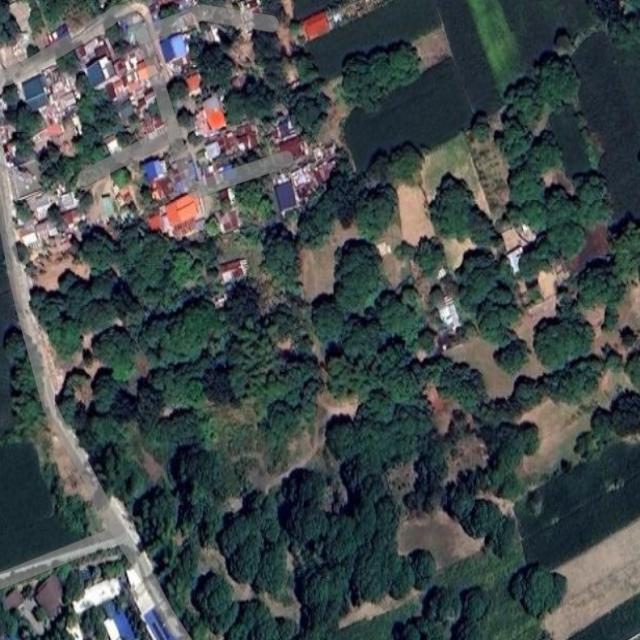Tree: (143, 295, 225, 363), (356, 404, 431, 476), (121, 226, 179, 308), (484, 421, 543, 501), (320, 496, 386, 563), (297, 567, 349, 639), (534, 314, 596, 373), (352, 550, 412, 608), (286, 469, 331, 546), (337, 238, 381, 314), (512, 561, 568, 620), (350, 181, 400, 245), (429, 176, 472, 244), (149, 359, 204, 411), (260, 356, 322, 402), (574, 258, 628, 309), (538, 52, 584, 111), (341, 49, 382, 114), (404, 456, 448, 516), (228, 321, 277, 374), (373, 288, 420, 342), (138, 489, 184, 544), (325, 353, 376, 402), (217, 506, 265, 557), (191, 37, 236, 90), (544, 370, 602, 411), (93, 327, 137, 381), (292, 199, 340, 248), (182, 486, 222, 544), (439, 361, 484, 412), (228, 595, 279, 640), (92, 441, 129, 501), (262, 226, 298, 286), (374, 369, 423, 409), (326, 412, 362, 466), (250, 486, 282, 546), (195, 569, 234, 618), (388, 147, 432, 190), (542, 218, 586, 261), (503, 74, 543, 121), (158, 408, 202, 450), (516, 241, 556, 287), (526, 132, 564, 180), (256, 540, 288, 597), (311, 296, 347, 346), (200, 366, 240, 411), (612, 215, 640, 279), (230, 533, 264, 585), (421, 579, 460, 624), (74, 228, 112, 274), (174, 442, 212, 488), (326, 173, 357, 229), (358, 384, 398, 427), (506, 167, 545, 210), (228, 281, 262, 328), (572, 197, 615, 234), (45, 316, 81, 360), (262, 404, 296, 450), (74, 302, 120, 336), (486, 510, 520, 556), (343, 320, 382, 360), (496, 119, 533, 161), (463, 268, 496, 313), (464, 501, 502, 540), (416, 234, 448, 280), (172, 537, 200, 589), (134, 378, 167, 422), (541, 186, 576, 227), (89, 370, 121, 414), (456, 586, 493, 624), (240, 80, 276, 119), (507, 200, 547, 235), (565, 349, 607, 382), (612, 389, 640, 438), (375, 337, 408, 378), (444, 479, 476, 521), (9, 99, 46, 135), (171, 246, 204, 286), (371, 47, 399, 93), (412, 358, 451, 391), (576, 170, 612, 205), (467, 200, 494, 246), (267, 305, 302, 340), (456, 463, 492, 497), (476, 398, 514, 430), (388, 36, 420, 74), (12, 356, 40, 398), (493, 340, 529, 372), (512, 375, 542, 413), (457, 246, 492, 278), (590, 403, 616, 446), (409, 551, 436, 592), (292, 95, 323, 130), (27, 292, 63, 322), (340, 460, 367, 498), (88, 267, 121, 298), (411, 610, 445, 640), (361, 471, 387, 509), (8, 398, 42, 427), (222, 90, 246, 130), (236, 182, 264, 216), (34, 142, 63, 174), (210, 600, 238, 633), (10, 138, 38, 170), (496, 256, 521, 291), (80, 604, 109, 634), (296, 374, 320, 410), (64, 368, 91, 399), (112, 389, 138, 421), (66, 281, 93, 309), (53, 156, 77, 187), (67, 566, 87, 603), (8, 327, 29, 362), (273, 613, 300, 640), (10, 242, 32, 275), (600, 300, 621, 334), (12, 196, 37, 224), (68, 401, 90, 432), (231, 365, 251, 399), (496, 303, 522, 329), (574, 430, 596, 460), (96, 102, 116, 135), (393, 615, 419, 640), (72, 122, 97, 148), (103, 558, 130, 582), (57, 394, 77, 426), (471, 120, 492, 150), (54, 267, 78, 293), (400, 280, 422, 308), (37, 624, 75, 640), (395, 239, 418, 263), (625, 348, 640, 384), (481, 307, 500, 335), (418, 326, 436, 354), (602, 344, 622, 369), (112, 165, 134, 187), (190, 617, 211, 640), (169, 75, 189, 99), (255, 196, 273, 222), (490, 284, 511, 306), (84, 561, 103, 585), (431, 283, 445, 310), (46, 203, 62, 226), (621, 327, 636, 349), (178, 106, 193, 128), (206, 216, 220, 238), (31, 604, 46, 623), (52, 613, 68, 630), (19, 581, 34, 598)
